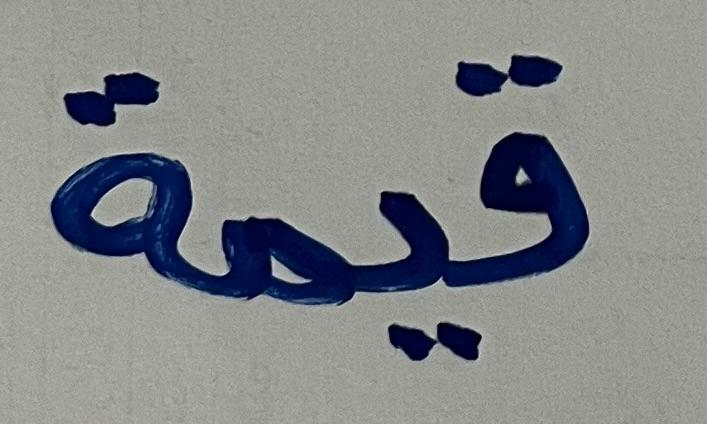meem: (205, 171, 343, 369)
qaf: (453, 30, 640, 295)
teh_marbota: (29, 38, 201, 311)
yeh: (346, 169, 452, 386)
